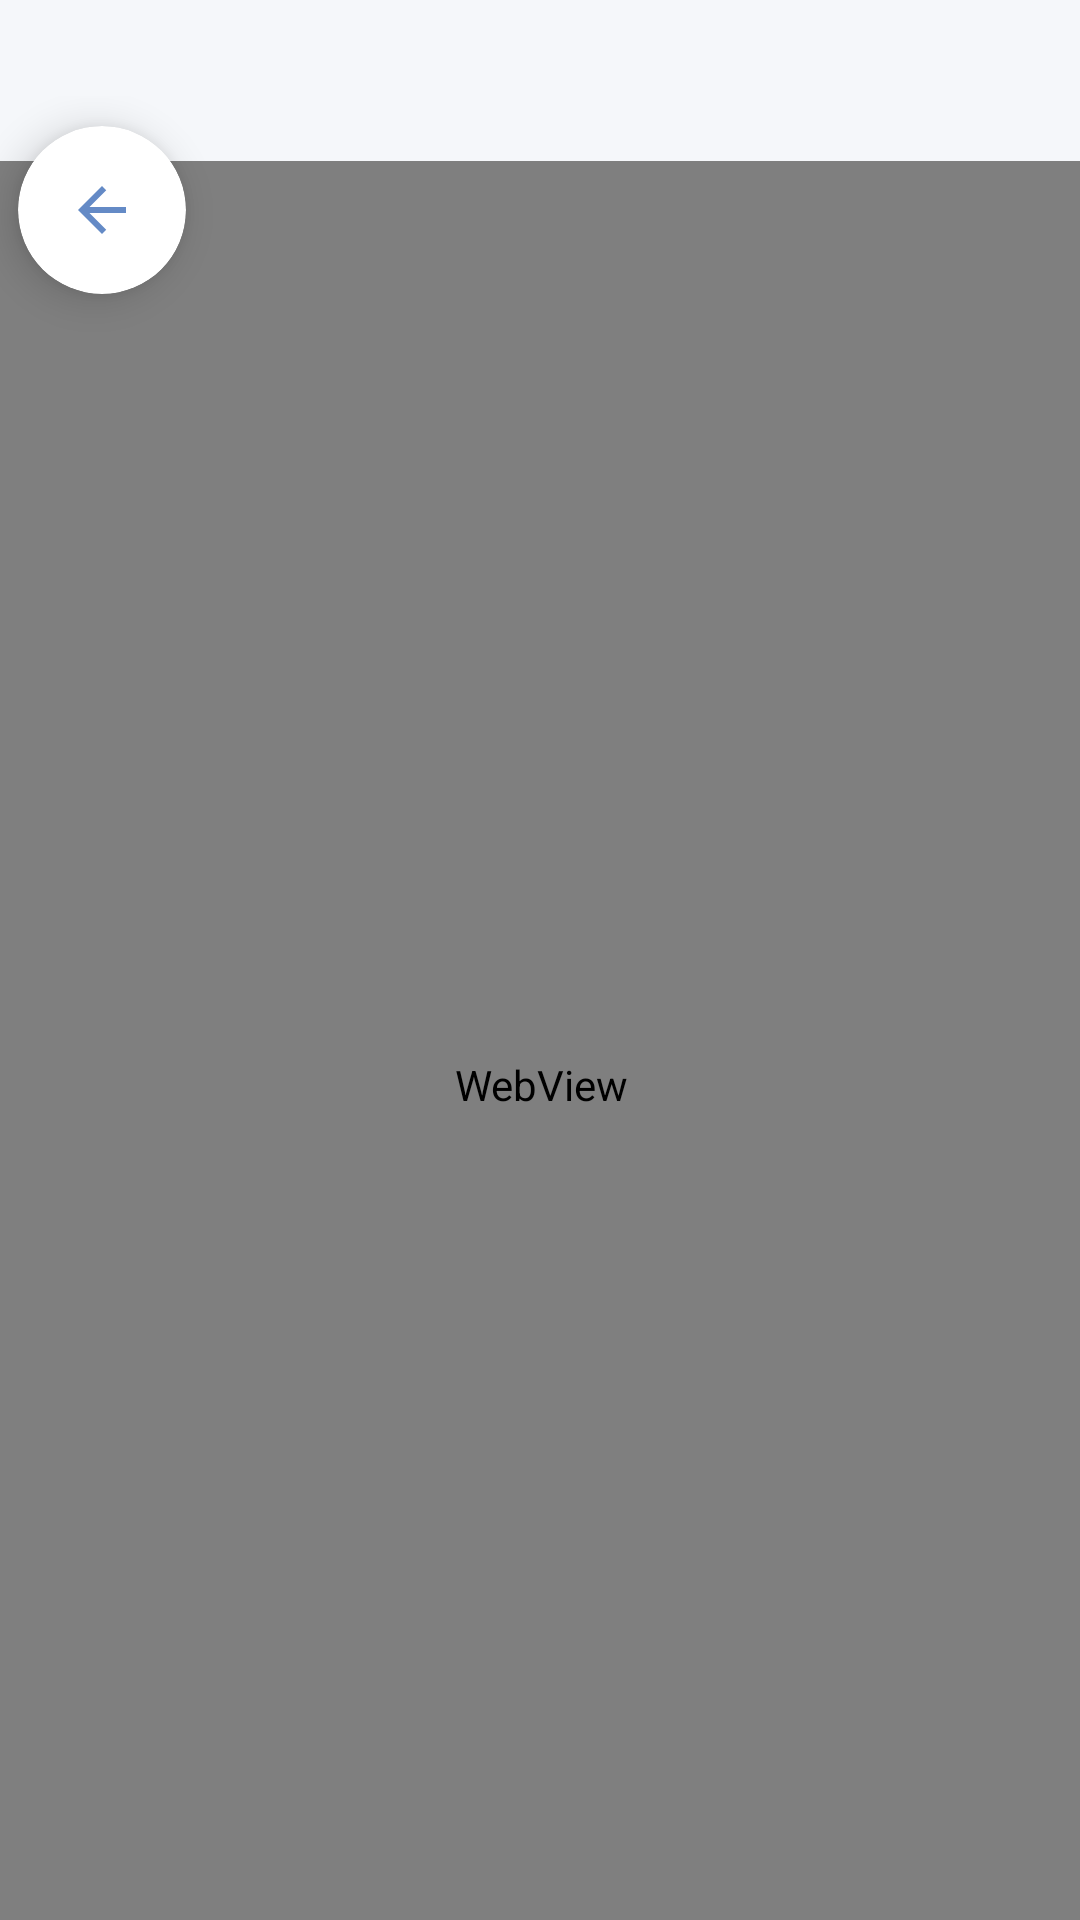

Icons on this 1080*1920 Android screen, each with the point to tap as point (x, y):
Atrás: point (102, 210)
